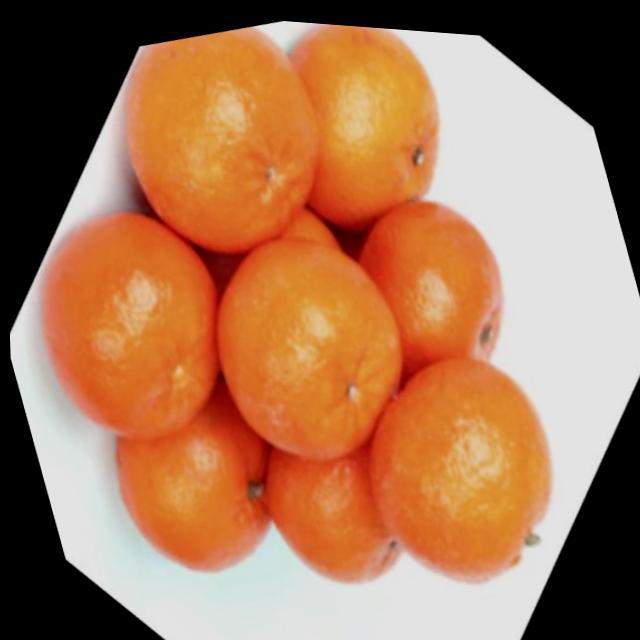Orange: (337, 326, 580, 604), (99, 6, 349, 276), (187, 205, 429, 482), (11, 184, 252, 462), (91, 360, 297, 593), (261, 15, 468, 244), (343, 175, 524, 386), (249, 416, 409, 600)
